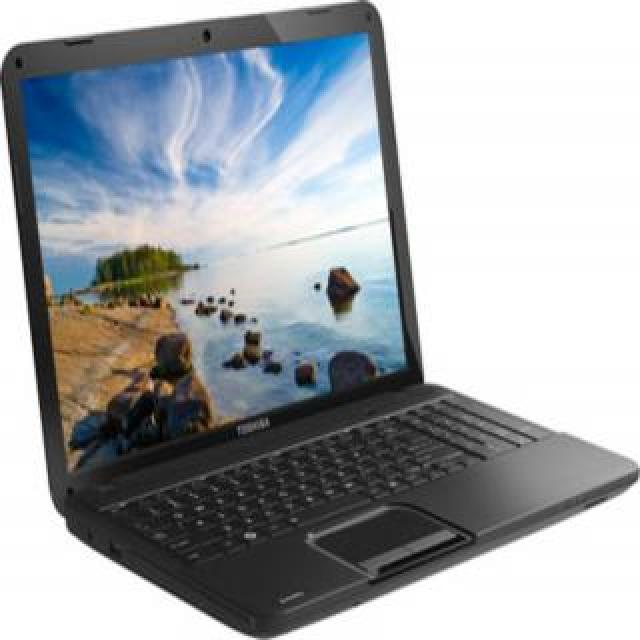laptop_computer: (1, 5, 586, 630)
